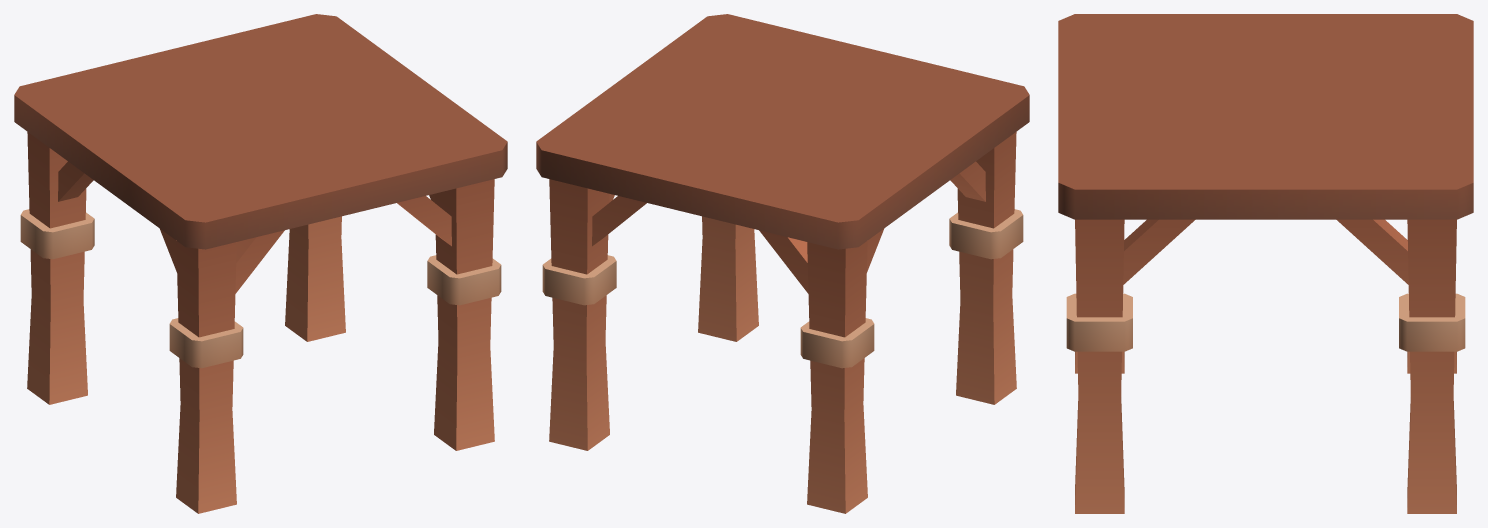
Rendered from structure.glb.
3 views of the same model, side by side, from view 1: azimuth 30°, elevation 25°; view 2: azimuth 150°, elevation 25°; view 3: azimuth 270°, elevation 25° (orthographic). The views are drawn at different scales.
Visible parts, largest first — view 1: structure; view 2: structure; view 3: structure.
Boxes of the visible parts, x1=… form: structure: x1=14, y1=14, x2=507, y2=513; structure: x1=536, y1=14, x2=1029, y2=513; structure: x1=1058, y1=14, x2=1473, y2=513.
Bounding box in the file's own units: 2.5 × 2.2 × 2.5.
Materials: 1 (1 with a texture image).
